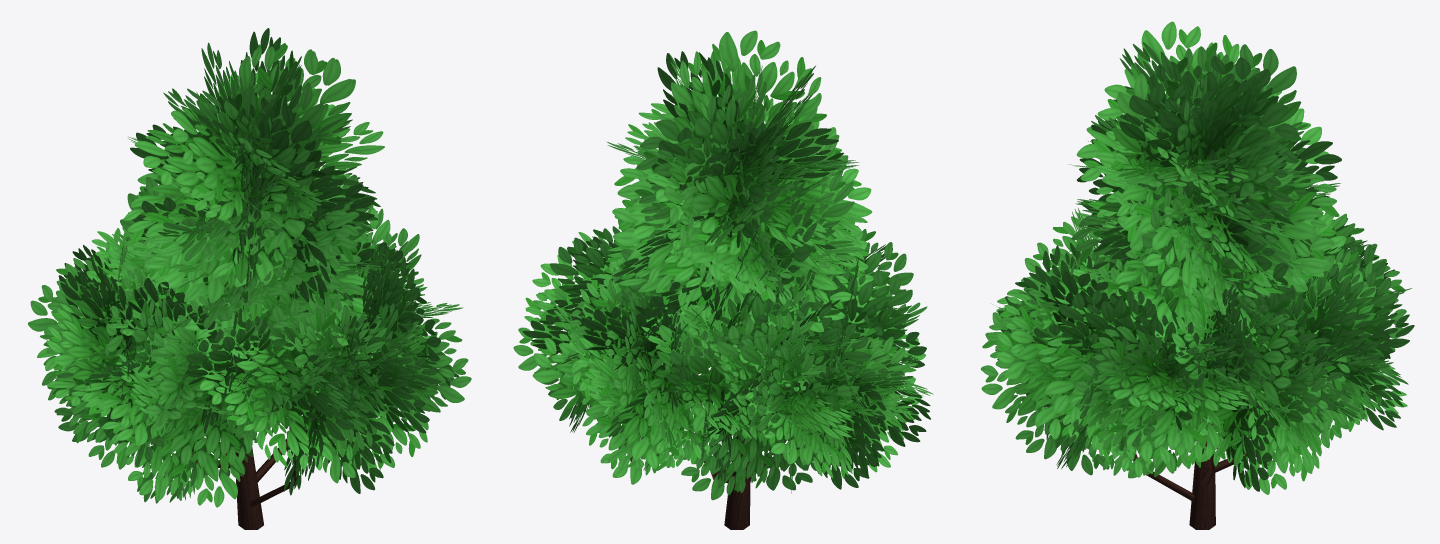
The model's file is Tree_1.glb.
3 views of the same model, side by side, from view 1: azimuth 30°, elevation 25°; view 2: azimuth 150°, elevation 25°; view 3: azimuth 270°, elevation 25° (orthographic). The views are drawn at different scales.
Visible parts, largest first — view 1: Bush_1; view 2: Bush_1; view 3: Bush_1.
Part boxes in pixels (<box>): Bush_1: <box>28,28,471,529</box>; Bush_1: <box>513,30,933,529</box>; Bush_1: <box>980,21,1414,529</box>.
Size of the model in its own units: 10.57 by 12.74 by 10.41.
Materials: 1 (1 with a texture image).
